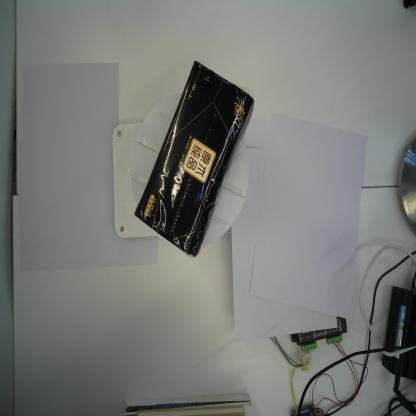Tissue: (132, 60, 255, 260)
